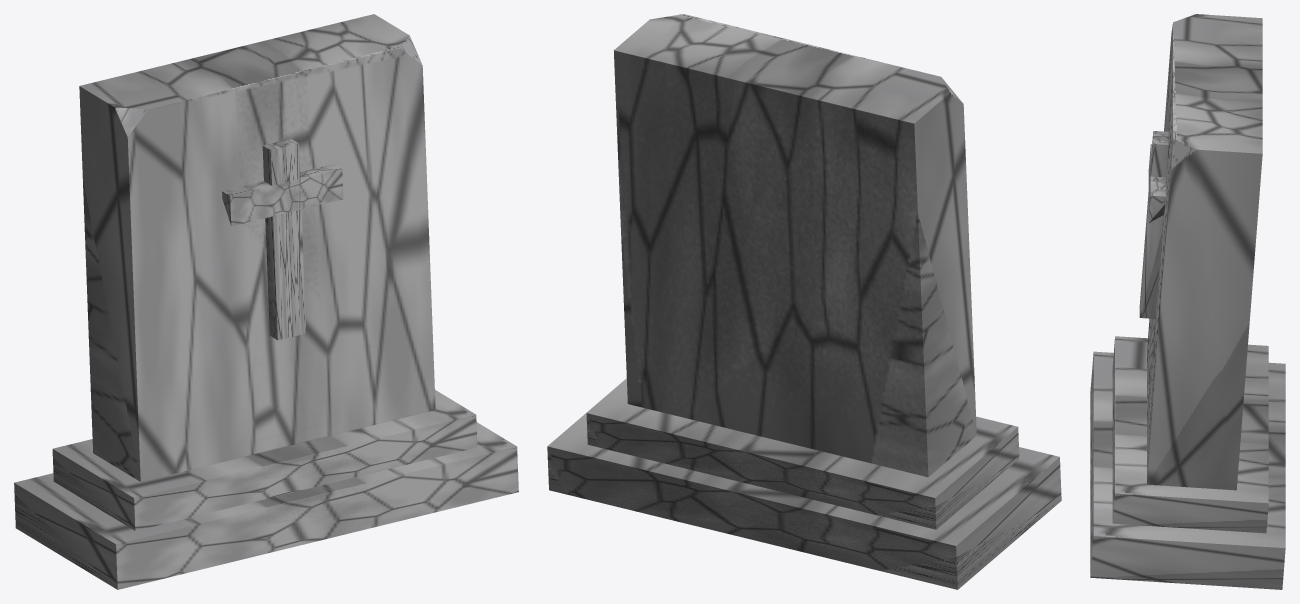
The model's file is Tombstone_A.fbx.
3 renders of one model, left to right at view 1: azimuth 30°, elevation 25°; view 2: azimuth 150°, elevation 25°; view 3: azimuth 270°, elevation 25°, orthographic. The views are drawn at different scales.
Visible parts, largest first — view 1: Tombstone_A; view 2: Tombstone_A; view 3: Tombstone_A.
Part boxes in pixels (x1,y1,x2,y2): Tombstone_A: (14,14,518,589); Tombstone_A: (547,14,1061,589); Tombstone_A: (1090,14,1285,589).
Bounding box in the file's own units: 3.4 × 3.59 × 1.52.
1 material, 1 textured.
